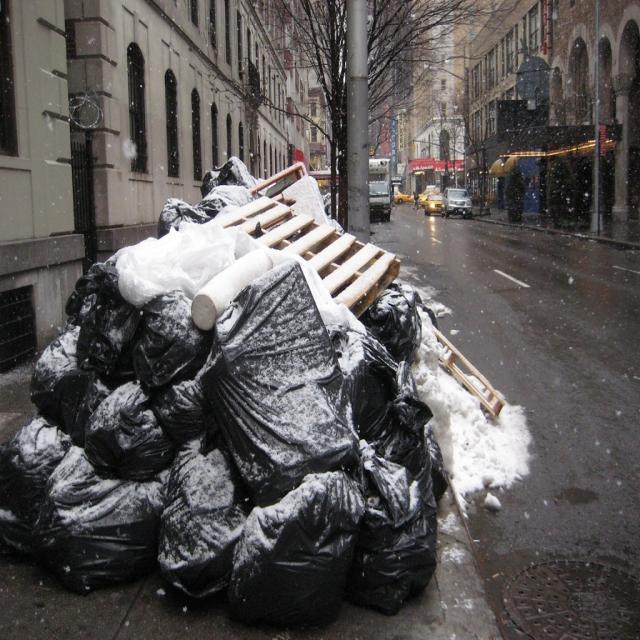garbage: (0, 219, 446, 625)
